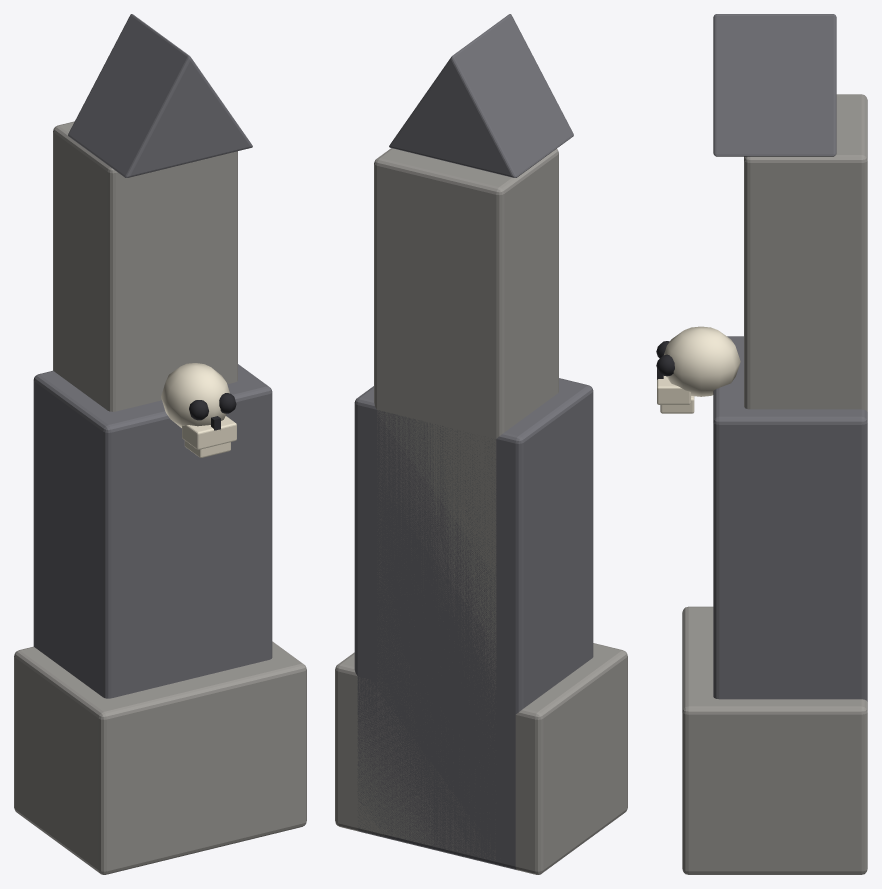
File: buttress_skull.glb
The picture shows the model from 3 angles, left to right: view 1: azimuth 30°, elevation 25°; view 2: azimuth 150°, elevation 25°; view 3: azimuth 270°, elevation 25°; orthographic projection. The views are drawn at different scales.
Parts seen in each view (by area): view 1: GD_buttress_skull__m0, GD_buttress_skull__m1, GD_buttress_skull__m3, GD_buttress_skull__m4; view 2: GD_buttress_skull__m1, GD_buttress_skull__m0; view 3: GD_buttress_skull__m0, GD_buttress_skull__m1, GD_buttress_skull__m3, GD_buttress_skull__m4.
Part boxes in pixels (bbox=[...]): GD_buttress_skull__m0: bbox=[14, 121, 306, 874]; GD_buttress_skull__m1: bbox=[33, 14, 272, 698]; GD_buttress_skull__m3: bbox=[161, 363, 236, 457]; GD_buttress_skull__m4: bbox=[189, 393, 236, 430]; GD_buttress_skull__m1: bbox=[354, 14, 593, 869]; GD_buttress_skull__m0: bbox=[335, 148, 627, 874]; GD_buttress_skull__m0: bbox=[682, 94, 867, 874]; GD_buttress_skull__m1: bbox=[713, 14, 867, 701]; GD_buttress_skull__m3: bbox=[657, 326, 740, 413]; GD_buttress_skull__m4: bbox=[656, 341, 674, 379].
Bounding box in the file's own units: 0.8 × 2.89 × 0.6842.
